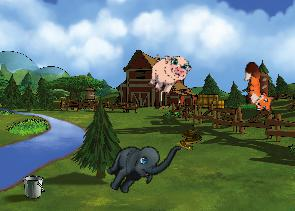elephant: (100, 121, 182, 209)
fox: (243, 62, 278, 114)
pig: (142, 47, 194, 101)
